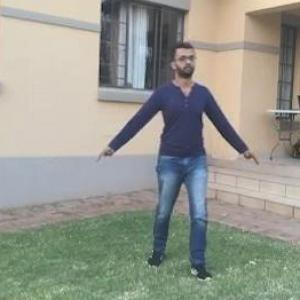land: (104, 49, 250, 262)
